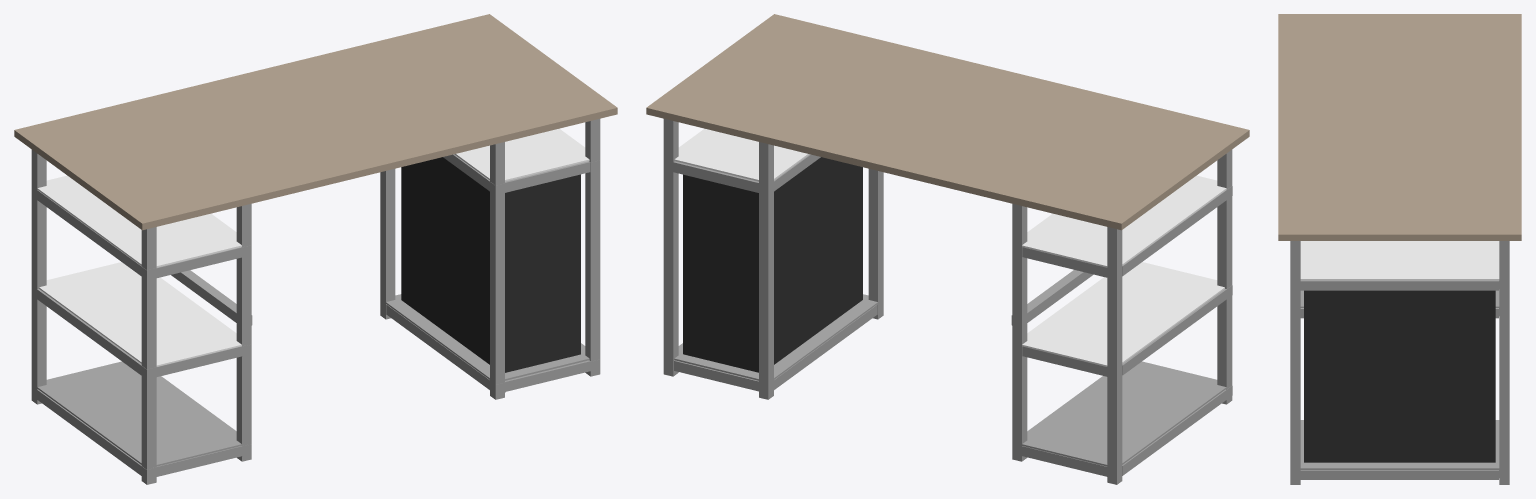
The model's file is table.fbx.
The picture shows the model from 3 angles, left to right: view 1: azimuth 30°, elevation 25°; view 2: azimuth 150°, elevation 25°; view 3: azimuth 270°, elevation 25°; orthographic projection. The views are drawn at different scales.
Visible parts, largest first — view 1: Box13, Box14, Box10, Box12, Box11, Box15 (×2), Box4, Box6, Box9, Box, Box7, Box8 (+11 smaller); view 2: Box13, Box14, Box10, Box12, Box11, Box7, Box5, Box2, Box3, Box9, Box15 (×2), Box6 (+10 smaller); view 3: Box13, Box14, Box9, Box4, Box5, Box1, Box16, Box8.
Boxes of the visible parts, x1=… form: Box13: x1=14, y1=14, x2=617, y2=230; Box14: x1=401, y1=157, x2=580, y2=372; Box10: x1=37, y1=361, x2=241, y2=466; Box12: x1=39, y1=262, x2=241, y2=366; Box11: x1=37, y1=175, x2=241, y2=267; Box15 (×2): x1=171, y1=142, x2=504, y2=399; Box4: x1=585, y1=119, x2=600, y2=376; Box6: x1=141, y1=227, x2=156, y2=484; Box9: x1=454, y1=128, x2=589, y2=181; Box: x1=236, y1=203, x2=251, y2=461; Box7: x1=31, y1=149, x2=46, y2=404; Box8: x1=386, y1=294, x2=589, y2=380; Box13: x1=646, y1=14, x2=1249, y2=230; Box14: x1=683, y1=157, x2=862, y2=372; Box10: x1=1022, y1=361, x2=1226, y2=466; Box12: x1=1022, y1=262, x2=1224, y2=366; Box11: x1=1022, y1=175, x2=1226, y2=267; Box7: x1=1107, y1=227, x2=1122, y2=484; Box5: x1=663, y1=119, x2=678, y2=376; Box2: x1=1012, y1=203, x2=1027, y2=461; Box3: x1=759, y1=142, x2=773, y2=399; Box9: x1=674, y1=128, x2=809, y2=181; Box15 (×2): x1=868, y1=169, x2=1093, y2=325; Box6: x1=1217, y1=149, x2=1232, y2=404; Box13: x1=1278, y1=14, x2=1521, y2=240; Box14: x1=1304, y1=290, x2=1495, y2=462; Box9: x1=1300, y1=241, x2=1499, y2=280; Box4: x1=1290, y1=241, x2=1300, y2=484; Box5: x1=1499, y1=241, x2=1509, y2=484; Box1: x1=1300, y1=280, x2=1498, y2=290; Box16: x1=1300, y1=470, x2=1498, y2=479; Box8: x1=1300, y1=420, x2=1499, y2=469.
Bounding box in the file's own units: 1.5 × 0.81 × 0.7.
